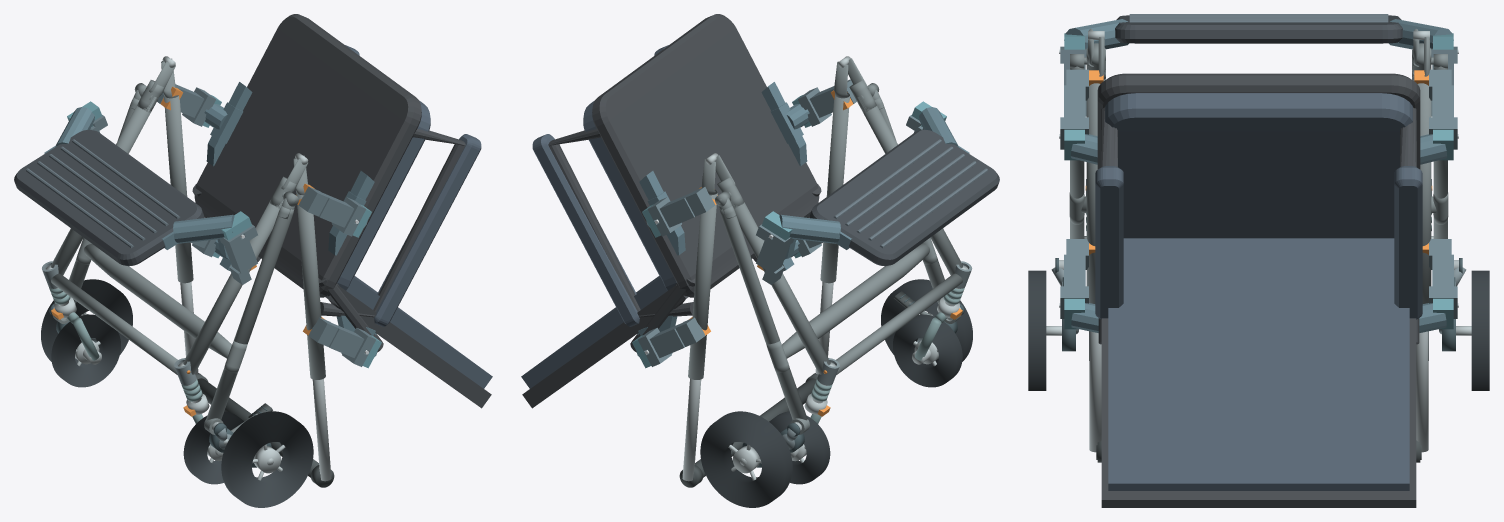
Rendered from S09_w650_state3_wheel_S.glb.
3 views of the same model, side by side, from view 1: azimuth 30°, elevation 25°; view 2: azimuth 150°, elevation 25°; view 3: azimuth 270°, elevation 25° (orthographic). The views are drawn at different scales.
Visible parts, largest first — view 1: S09_Cabin, S09_Cabin_Footrest, RL_tire.008, FR_tire.008, V46_rearbar.009, V46_rear_leg_-1.009, S09_Cabin_Footrest_LowDocks, main_upper_-1.009, main_lower_-1.009, main_upper_1.009, front_fixed_round_tube.008, RR_tire.008 (+10 smaller); view 2: S09_Cabin, S09_Cabin_Footrest, RR_tire.008, FL_tire.008, V46_rearbar.009, V46_rear_leg_1.009, S09_Cabin_Footrest_LowDocks, main_upper_1.009, main_lower_1.009, main_upper_-1.009, front_fixed_round_tube.008, FR_tire.008 (+11 smaller); view 3: S09_Cabin, S09_Cabin_Footrest, RL_tire.008, RR_tire.008, S09_Cabin_Footrest_LowDocks, S09_Cabin_Mount_M, S09_Cabin_HighDocks, main_upper_1.009, main_upper_-1.009, Universal_Cabin_Receiver_M_-1, Universal_Cabin_Receiver_M_1, Universal_Cabin_Receiver_H_1 (+5 smaller).
Boxes of the visible parts, x1,y1,x2,y2 form: S09_Cabin: [192, 14, 492, 408]; S09_Cabin_Footrest: [14, 129, 203, 266]; RL_tire.008: [221, 411, 313, 507]; FR_tire.008: [51, 314, 120, 387]; V46_rearbar.009: [84, 244, 231, 358]; V46_rear_leg_-1.009: [206, 206, 294, 420]; S09_Cabin_Footrest_LowDocks: [44, 101, 252, 249]; main_upper_-1.009: [296, 193, 325, 379]; main_lower_-1.009: [183, 200, 283, 374]; main_upper_1.009: [164, 96, 193, 283]; front_fixed_round_tube.008: [51, 273, 177, 374]; RR_tire.008: [41, 279, 132, 363]; S09_Cabin: [521, 14, 821, 408]; S09_Cabin_Footrest: [810, 129, 999, 266]; RR_tire.008: [700, 411, 792, 507]; FL_tire.008: [893, 314, 962, 387]; V46_rearbar.009: [782, 244, 929, 358]; V46_rear_leg_1.009: [719, 206, 807, 420]; S09_Cabin_Footrest_LowDocks: [761, 101, 969, 249]; main_upper_1.009: [688, 190, 717, 379]; main_lower_1.009: [730, 200, 830, 374]; main_upper_-1.009: [820, 93, 849, 283]; front_fixed_round_tube.008: [836, 273, 962, 374]; FR_tire.008: [769, 411, 830, 484]; S09_Cabin: [1095, 73, 1422, 507]; S09_Cabin_Footrest: [1115, 14, 1402, 43]; RL_tire.008: [1028, 270, 1046, 390]; RR_tire.008: [1471, 270, 1489, 390]; S09_Cabin_Footrest_LowDocks: [1059, 19, 1458, 53]; S09_Cabin_Mount_M: [1059, 129, 1458, 164]; S09_Cabin_HighDocks: [1059, 298, 1458, 332]; main_upper_1.009: [1412, 76, 1431, 303]; main_upper_-1.009: [1086, 78, 1105, 303]; Universal_Cabin_Receiver_M_-1: [1060, 69, 1088, 149]; Universal_Cabin_Receiver_M_1: [1429, 69, 1457, 149]; Universal_Cabin_Receiver_H_1: [1429, 239, 1457, 318].
Size of the model in its own units: 0.8592 by 0.8125 by 0.766.
